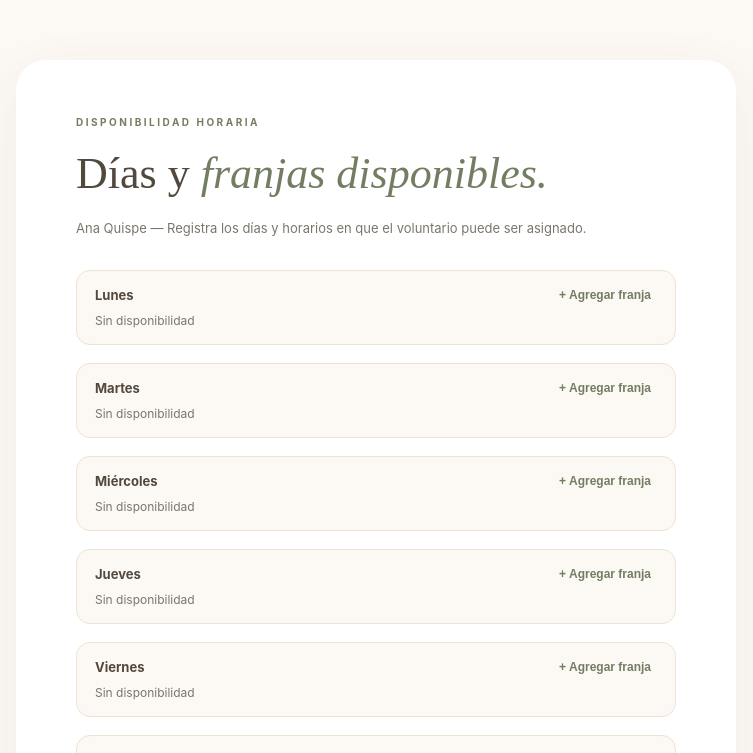
Scenario: DisponibilidadView › muestra el rechazo del backend (criterio 2)
Click the button with class "disp-agregar" in the row of "Lunes" at (605, 295), box [553,287,657,303]
(page scrolled)
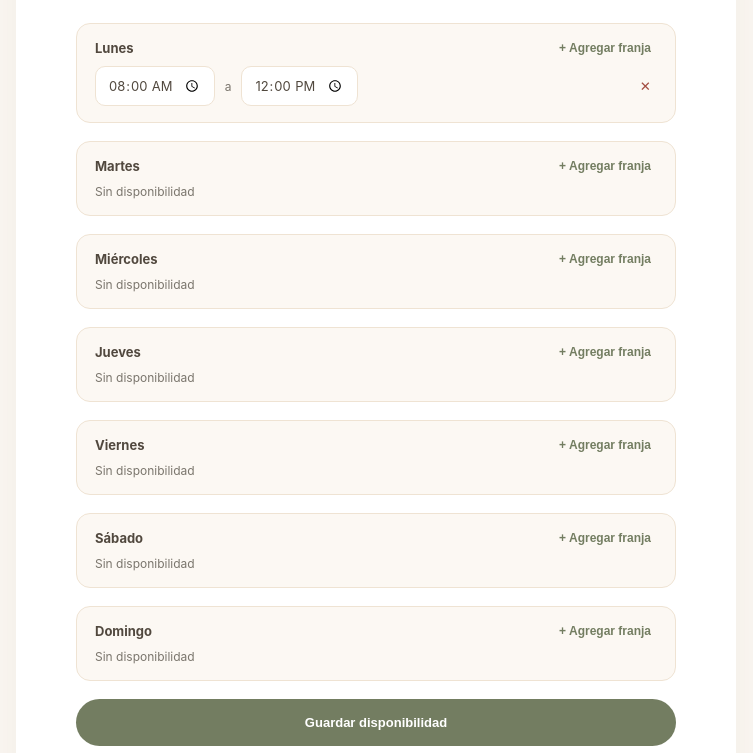
Submit the form
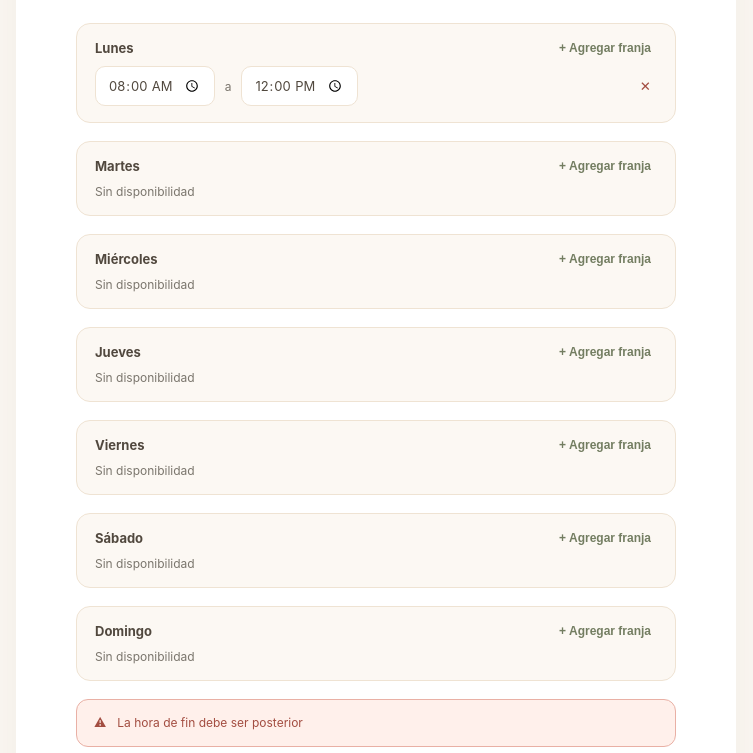
Expected: the message "⚠ La hora de fin debe ser posterior" is shown, [76,699,676,747]
